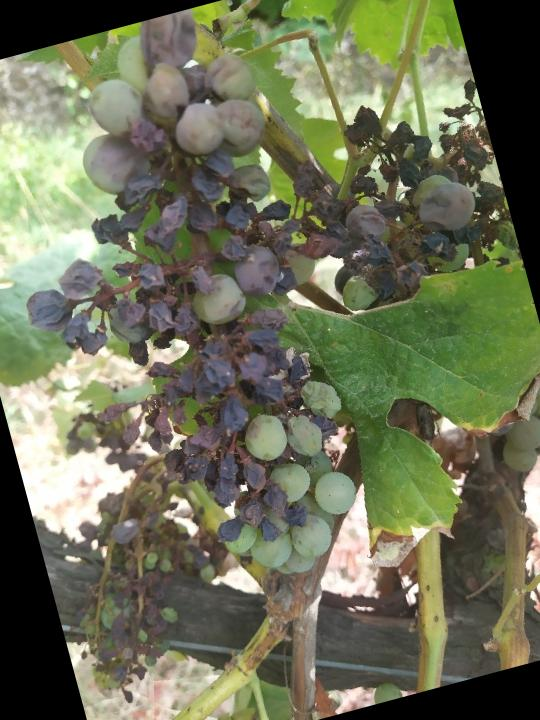grape: (0, 0, 399, 628), (263, 72, 526, 328)
